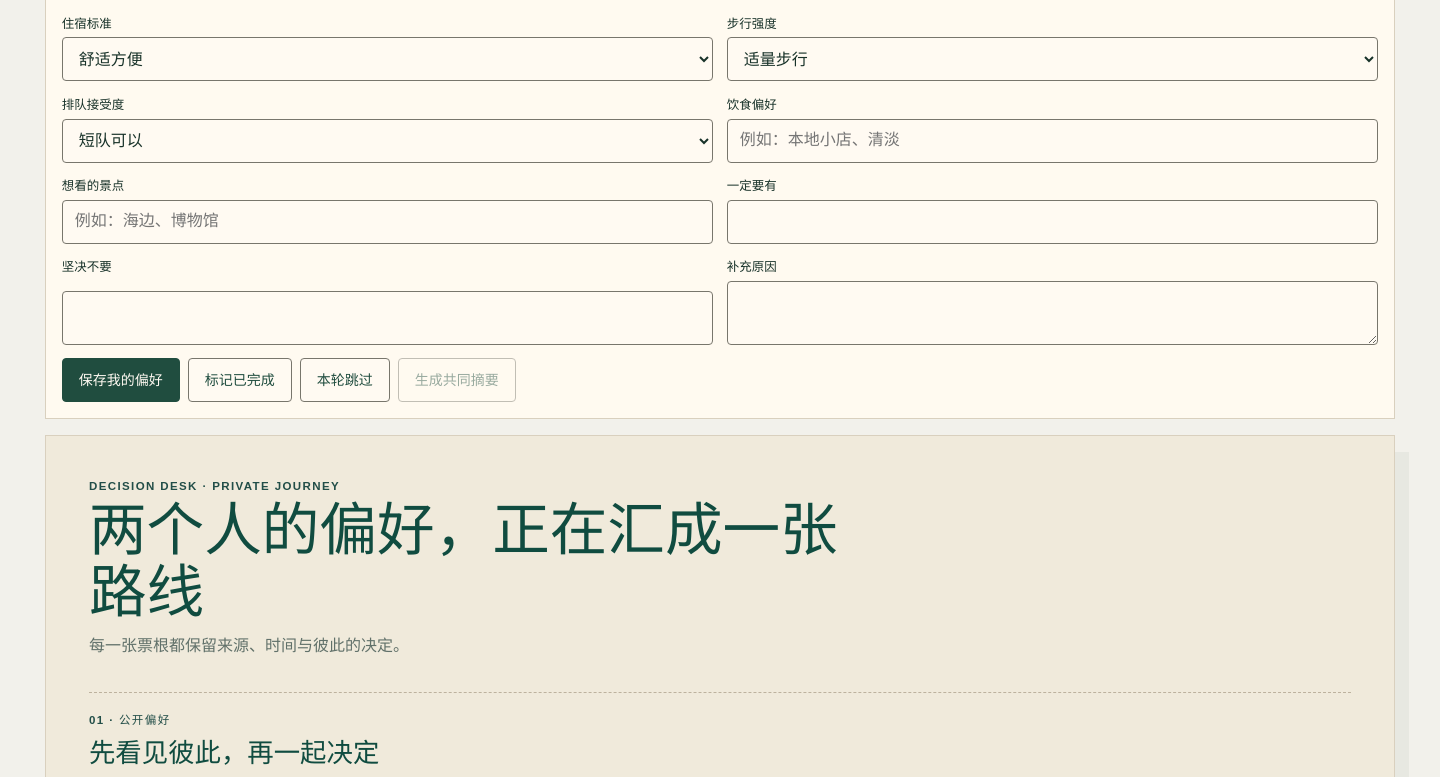
Scenario: announces command failure {"ok":false,"error":"INVALID_REQUEST"} as an alert
The image size is (1440, 777).
(page scrolled)
Expected: the heading "两个人的偏好，正在汇成一张路线" is shown, x1=89 y1=500 x2=873 y2=624
Click the button "保存我的偏好": (121, 380) x1=62 y1=358 x2=180 y2=402
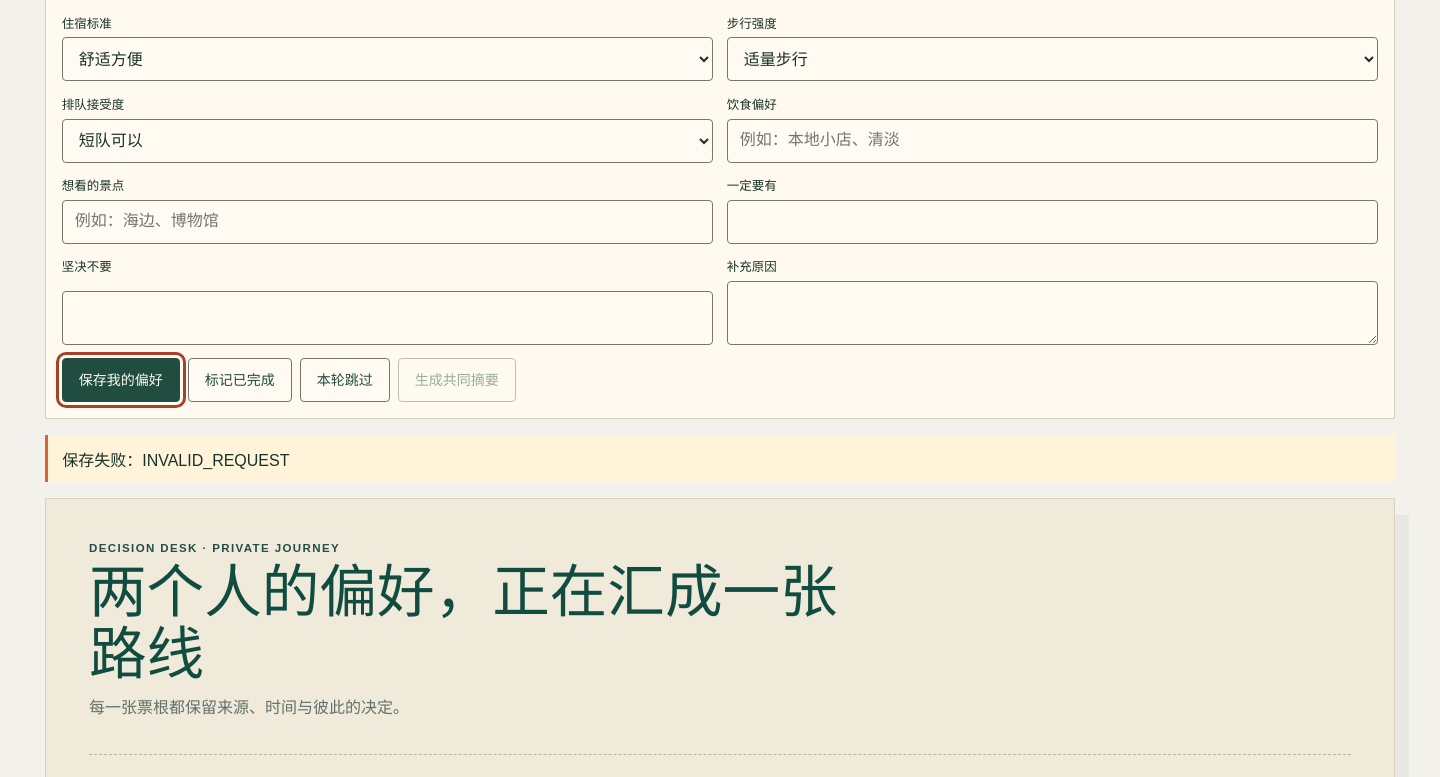
Expected: the message reads "保存失败：INVALID_REQUEST", x1=62 y1=452 x2=290 y2=469
